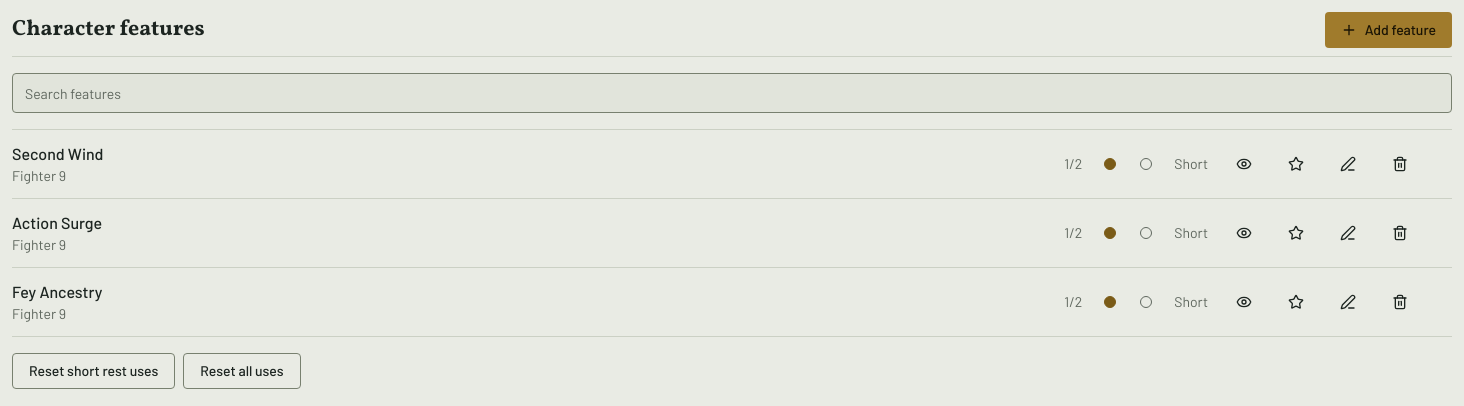
Test: 03h1 Abilities list › searches name, description and source without losing the detail path
In the search field labelled "Search features": (732, 93) [12,73,1452,113], type "Regain"
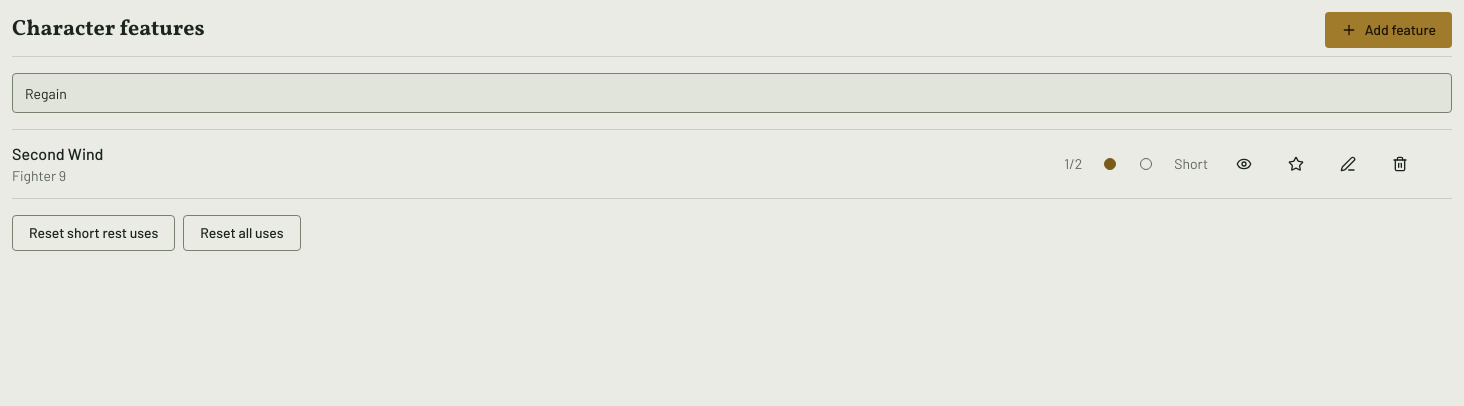
Expected: the text "Second Wind" is shown, [12,144,103,163]
Replace the text in the search field named "Search features" with "Elf": (732, 93) [12,73,1452,113]
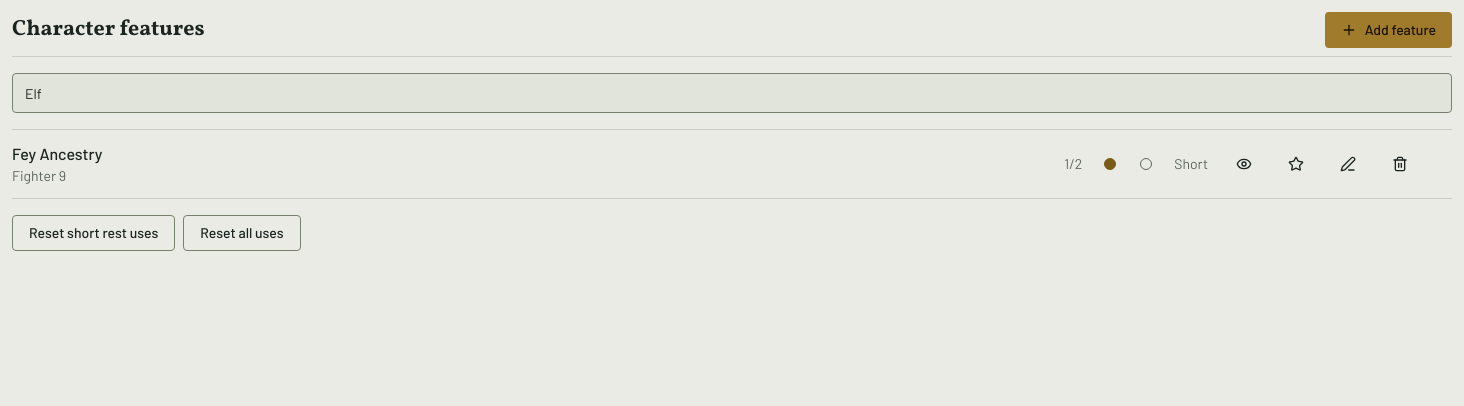
Now the text "Fey Ancestry" is shown, box [12,144,102,163]
Replace the text in the search field named "Search features" with "Action": (732, 93) [12,73,1452,113]
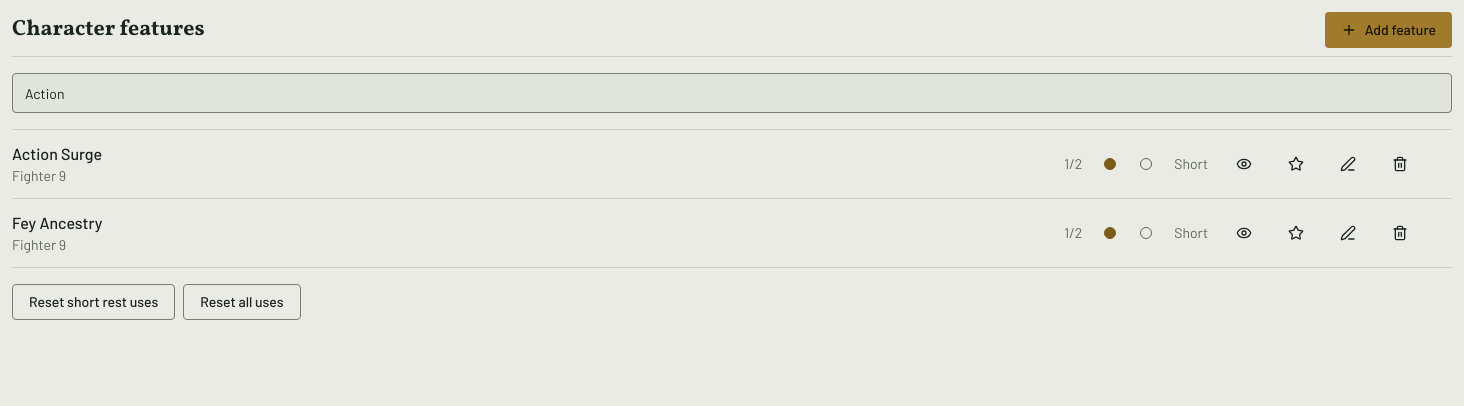
Now the text "Action Surge" is shown, box [12,144,102,163]
Replace the text in the search field named "Search features" with "No match": (732, 93) [12,73,1452,113]
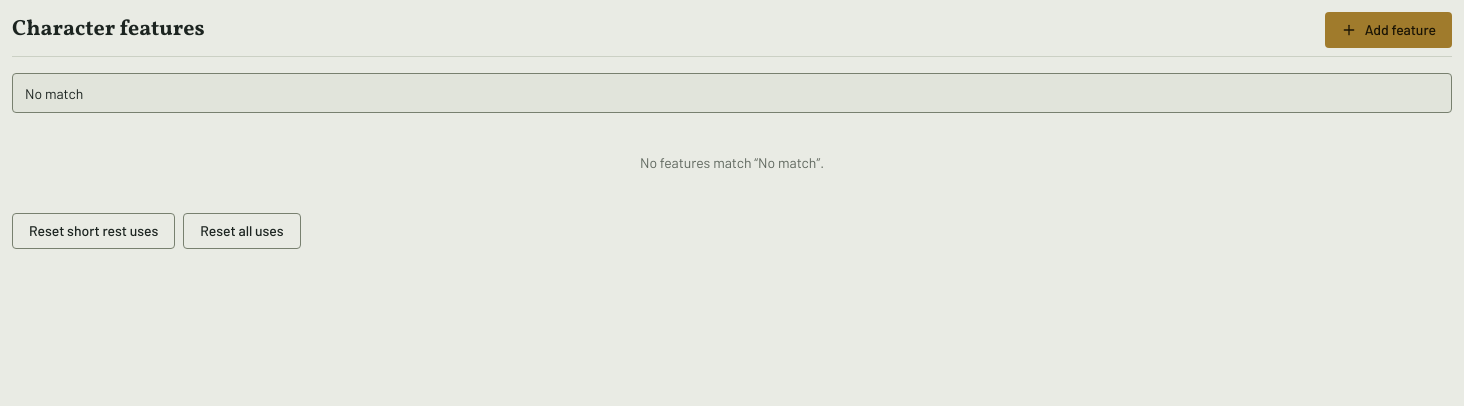
Now the text "No features match “No match”." is shown, box [640,154,824,171]
